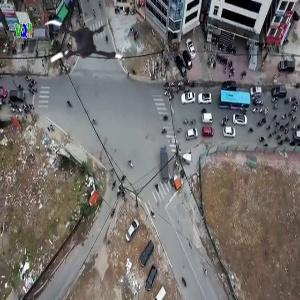drone: (36, 5, 124, 93)
